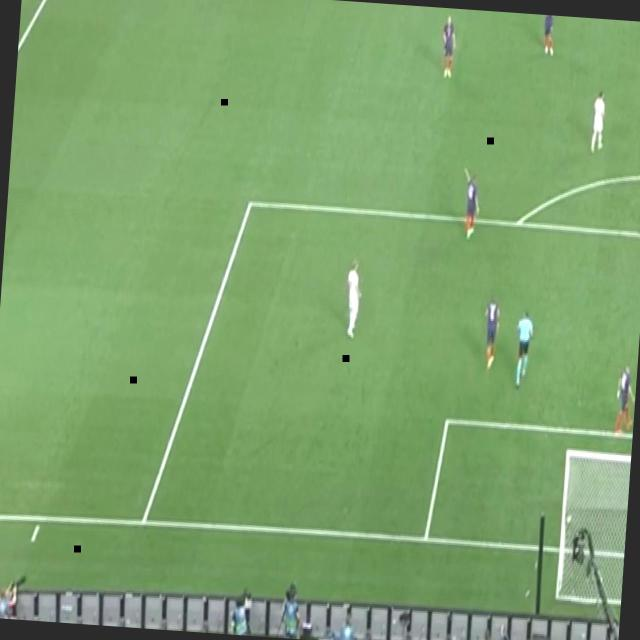player-white: (509, 304, 538, 392), (456, 162, 485, 247), (479, 289, 505, 377), (342, 254, 368, 341), (612, 363, 638, 443), (587, 84, 611, 158), (437, 12, 461, 82), (532, 14, 558, 58)
